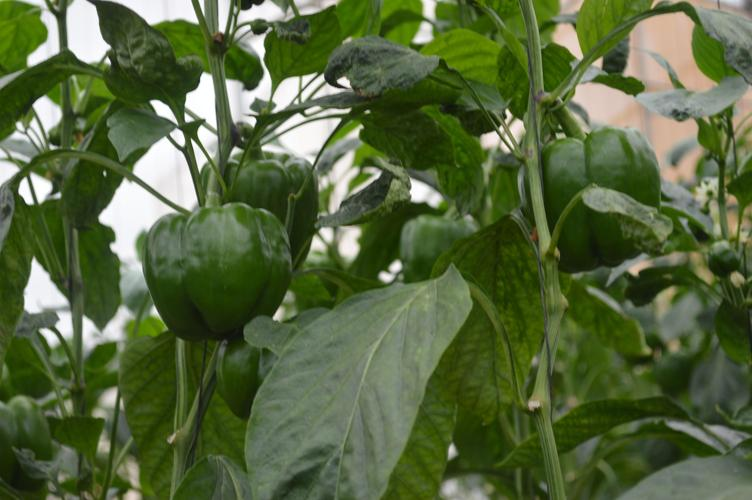BellPepper: (140, 205, 291, 330), (526, 126, 657, 262), (210, 151, 319, 241), (383, 211, 470, 279), (212, 337, 262, 412)
